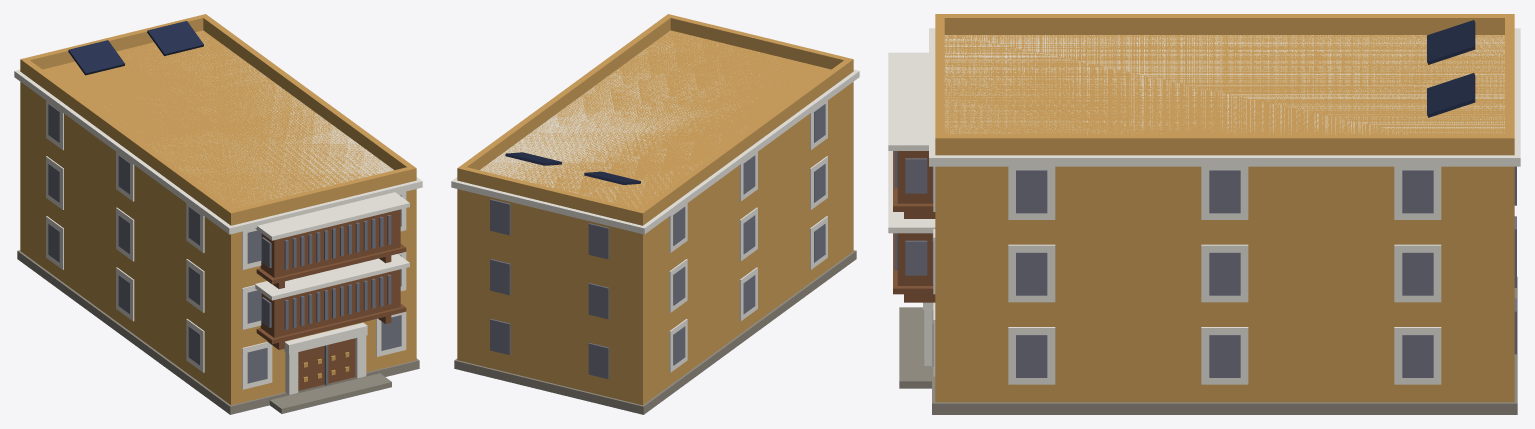
The model's file is house-1x2-3f-quincha-a-solar.glb.
The picture shows the model from 3 angles, left to right: view 1: azimuth 30°, elevation 25°; view 2: azimuth 150°, elevation 25°; view 3: azimuth 270°, elevation 25°; orthographic projection. The views are drawn at different scales.
Visible parts, largest first — view 1: house-1x2-3f-quincha-a-solar; view 2: house-1x2-3f-quincha-a-solar; view 3: house-1x2-3f-quincha-a-solar.
Boxes of the visible parts, bbox=[...] form: house-1x2-3f-quincha-a-solar: bbox=[14, 14, 422, 414]; house-1x2-3f-quincha-a-solar: bbox=[451, 14, 859, 414]; house-1x2-3f-quincha-a-solar: bbox=[888, 14, 1520, 414].
Size of the model in its own units: 0.98 by 1.03 by 2.02.
Materials: 1 (1 with a texture image).
